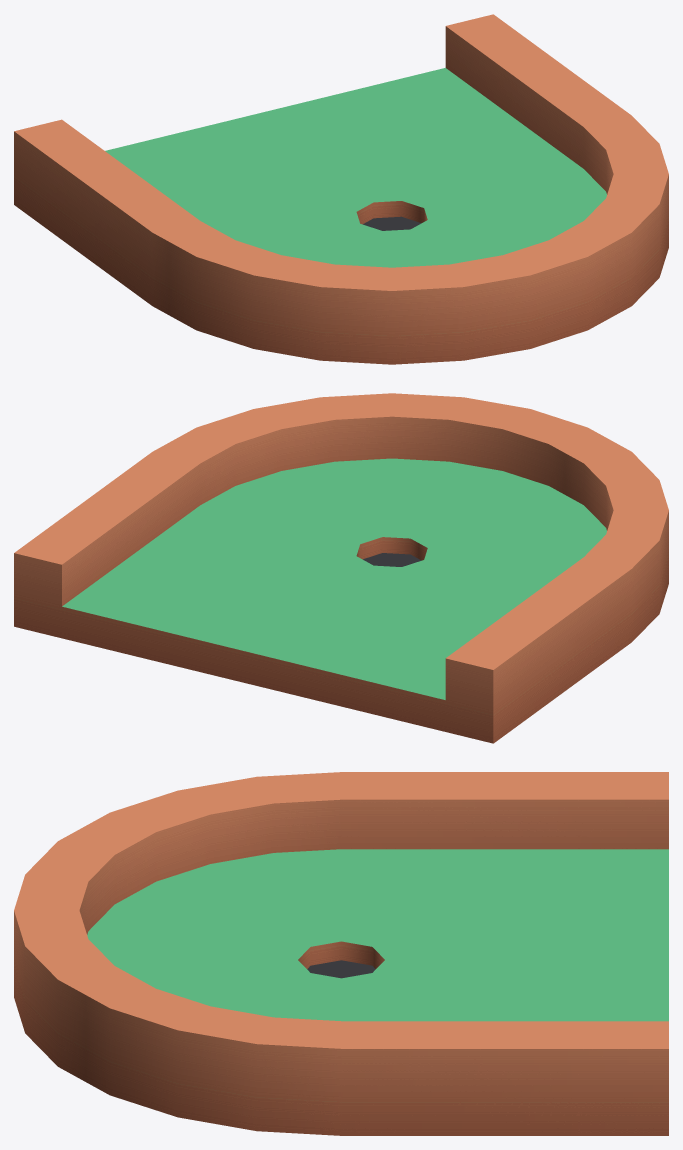
Rendered from hole-round.glb.
The picture shows the model from 3 angles, top to bottom: view 1: azimuth 30°, elevation 25°; view 2: azimuth 150°, elevation 25°; view 3: azimuth 270°, elevation 25°; orthographic projection. The views are drawn at different scales.
Parts seen in each view (by area): view 1: hole-round; view 2: hole-round; view 3: hole-round.
Part boxes in pixels (x1,y1,x2,y2): hole-round: (14,14,668,364); hole-round: (14,393,668,743); hole-round: (14,772,668,1135).
Size of the model in its own units: 0.9999 by 0.1467 by 0.9999.
Materials: 1 (1 with a texture image).
